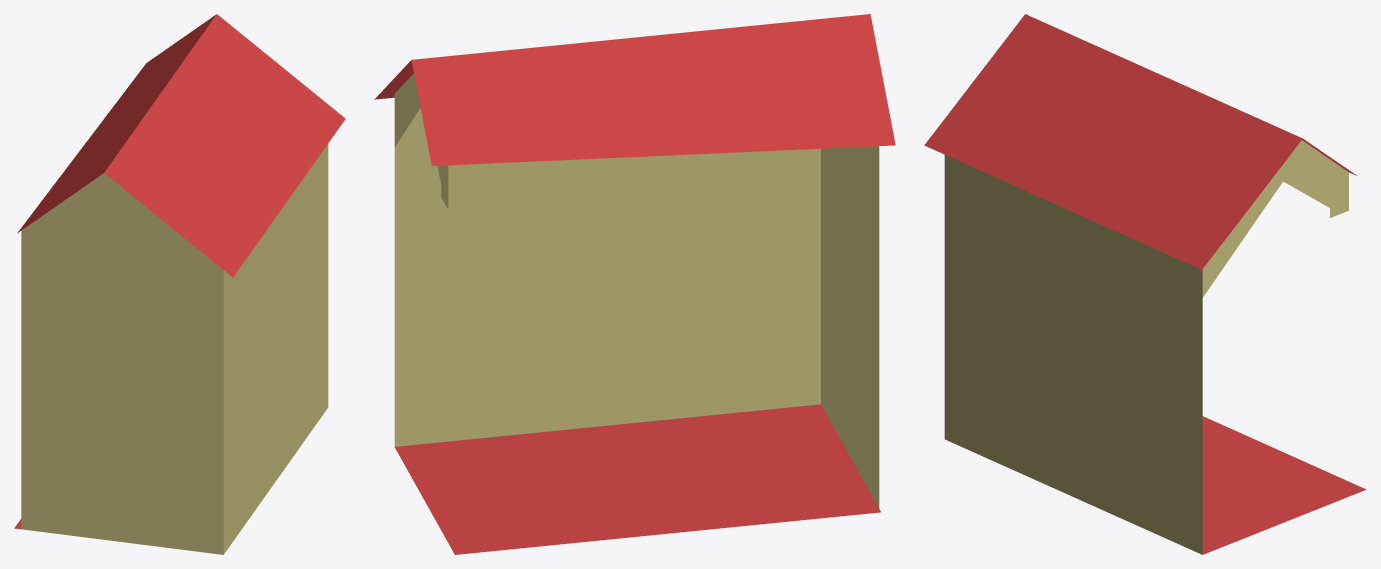
The picture shows the model from 3 angles, left to right: view 1: azimuth 30°, elevation 25°; view 2: azimuth 150°, elevation 25°; view 3: azimuth 270°, elevation 25°; orthographic projection. The views are drawn at different scales.
Bounding box in the file's own units: 15.73 × 15.32 × 14.7.
